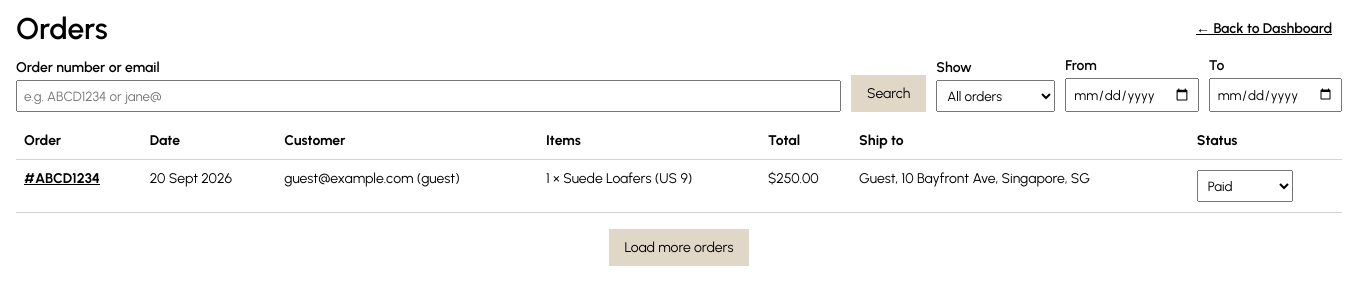
AdminOrders › loads more orders, 50 at a time
Click the button "Load more orders".
click(679, 248)  # box [608, 229, 749, 266]
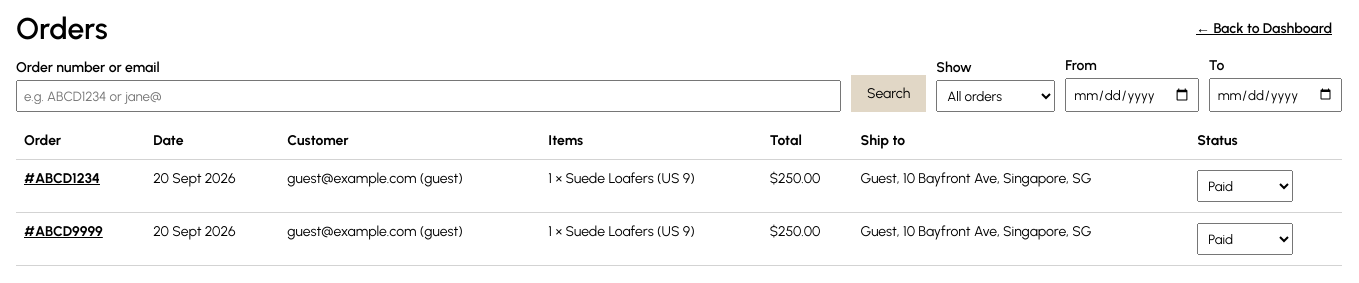
Expected: the link "#ABCD9999" is shown, [24, 223, 103, 240]
Expected: the number of links "#ABCD1234" is 1, [24, 170, 100, 187]
Expected: the button "Load more orders" is gone
